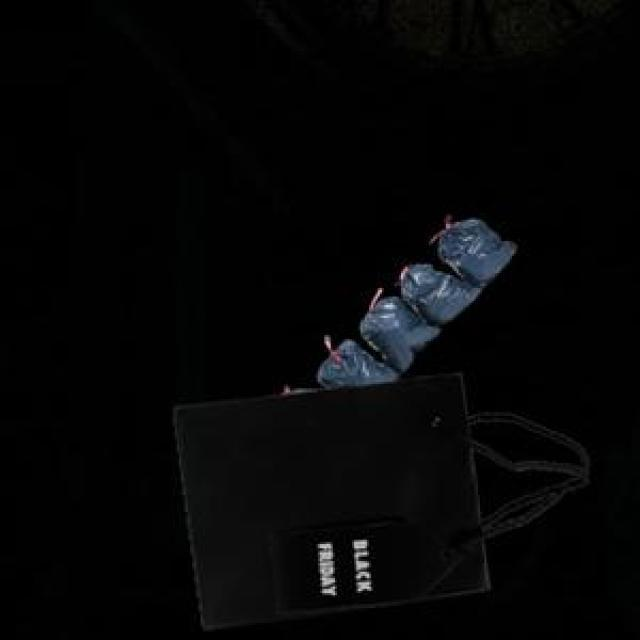miscellaneous trash: (314, 216, 512, 386)
paper: (171, 369, 585, 625)
